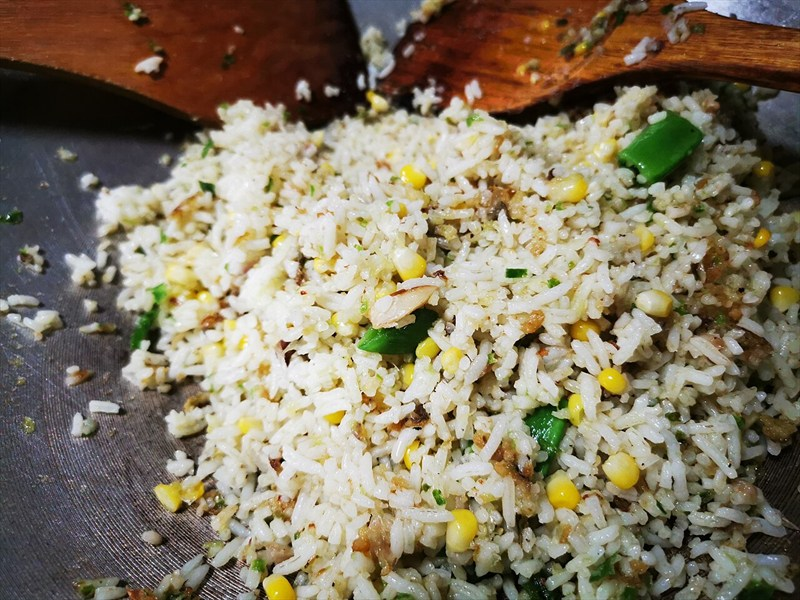Nasi Goreng: (127, 99, 653, 521)
